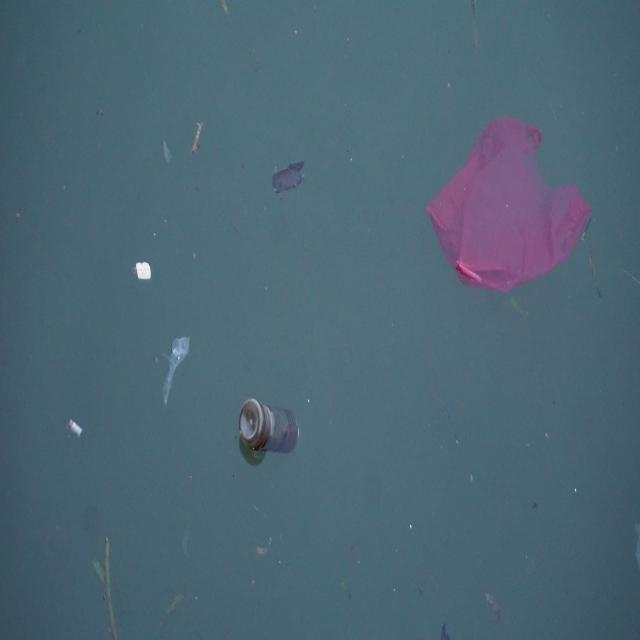Botol Plastik: (237, 387, 303, 460)
Kantong Plastik: (427, 112, 593, 294)
